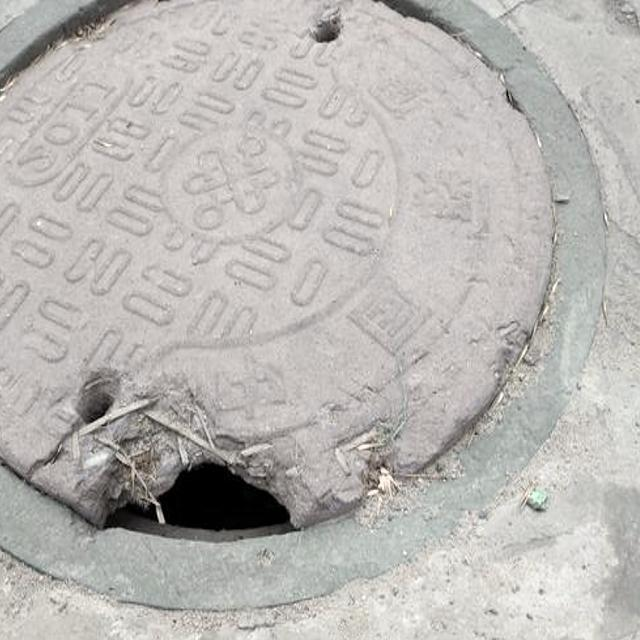broke: (0, 0, 593, 601)
